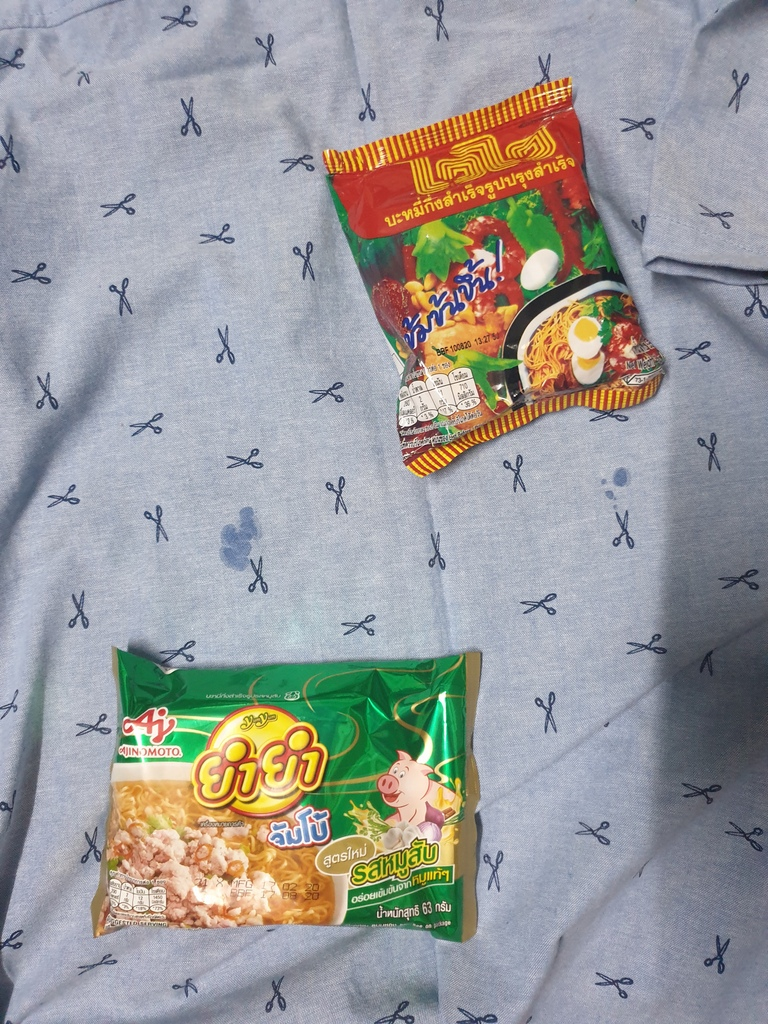waiwai: (325, 107, 685, 425)
yumyum: (103, 639, 483, 945)
